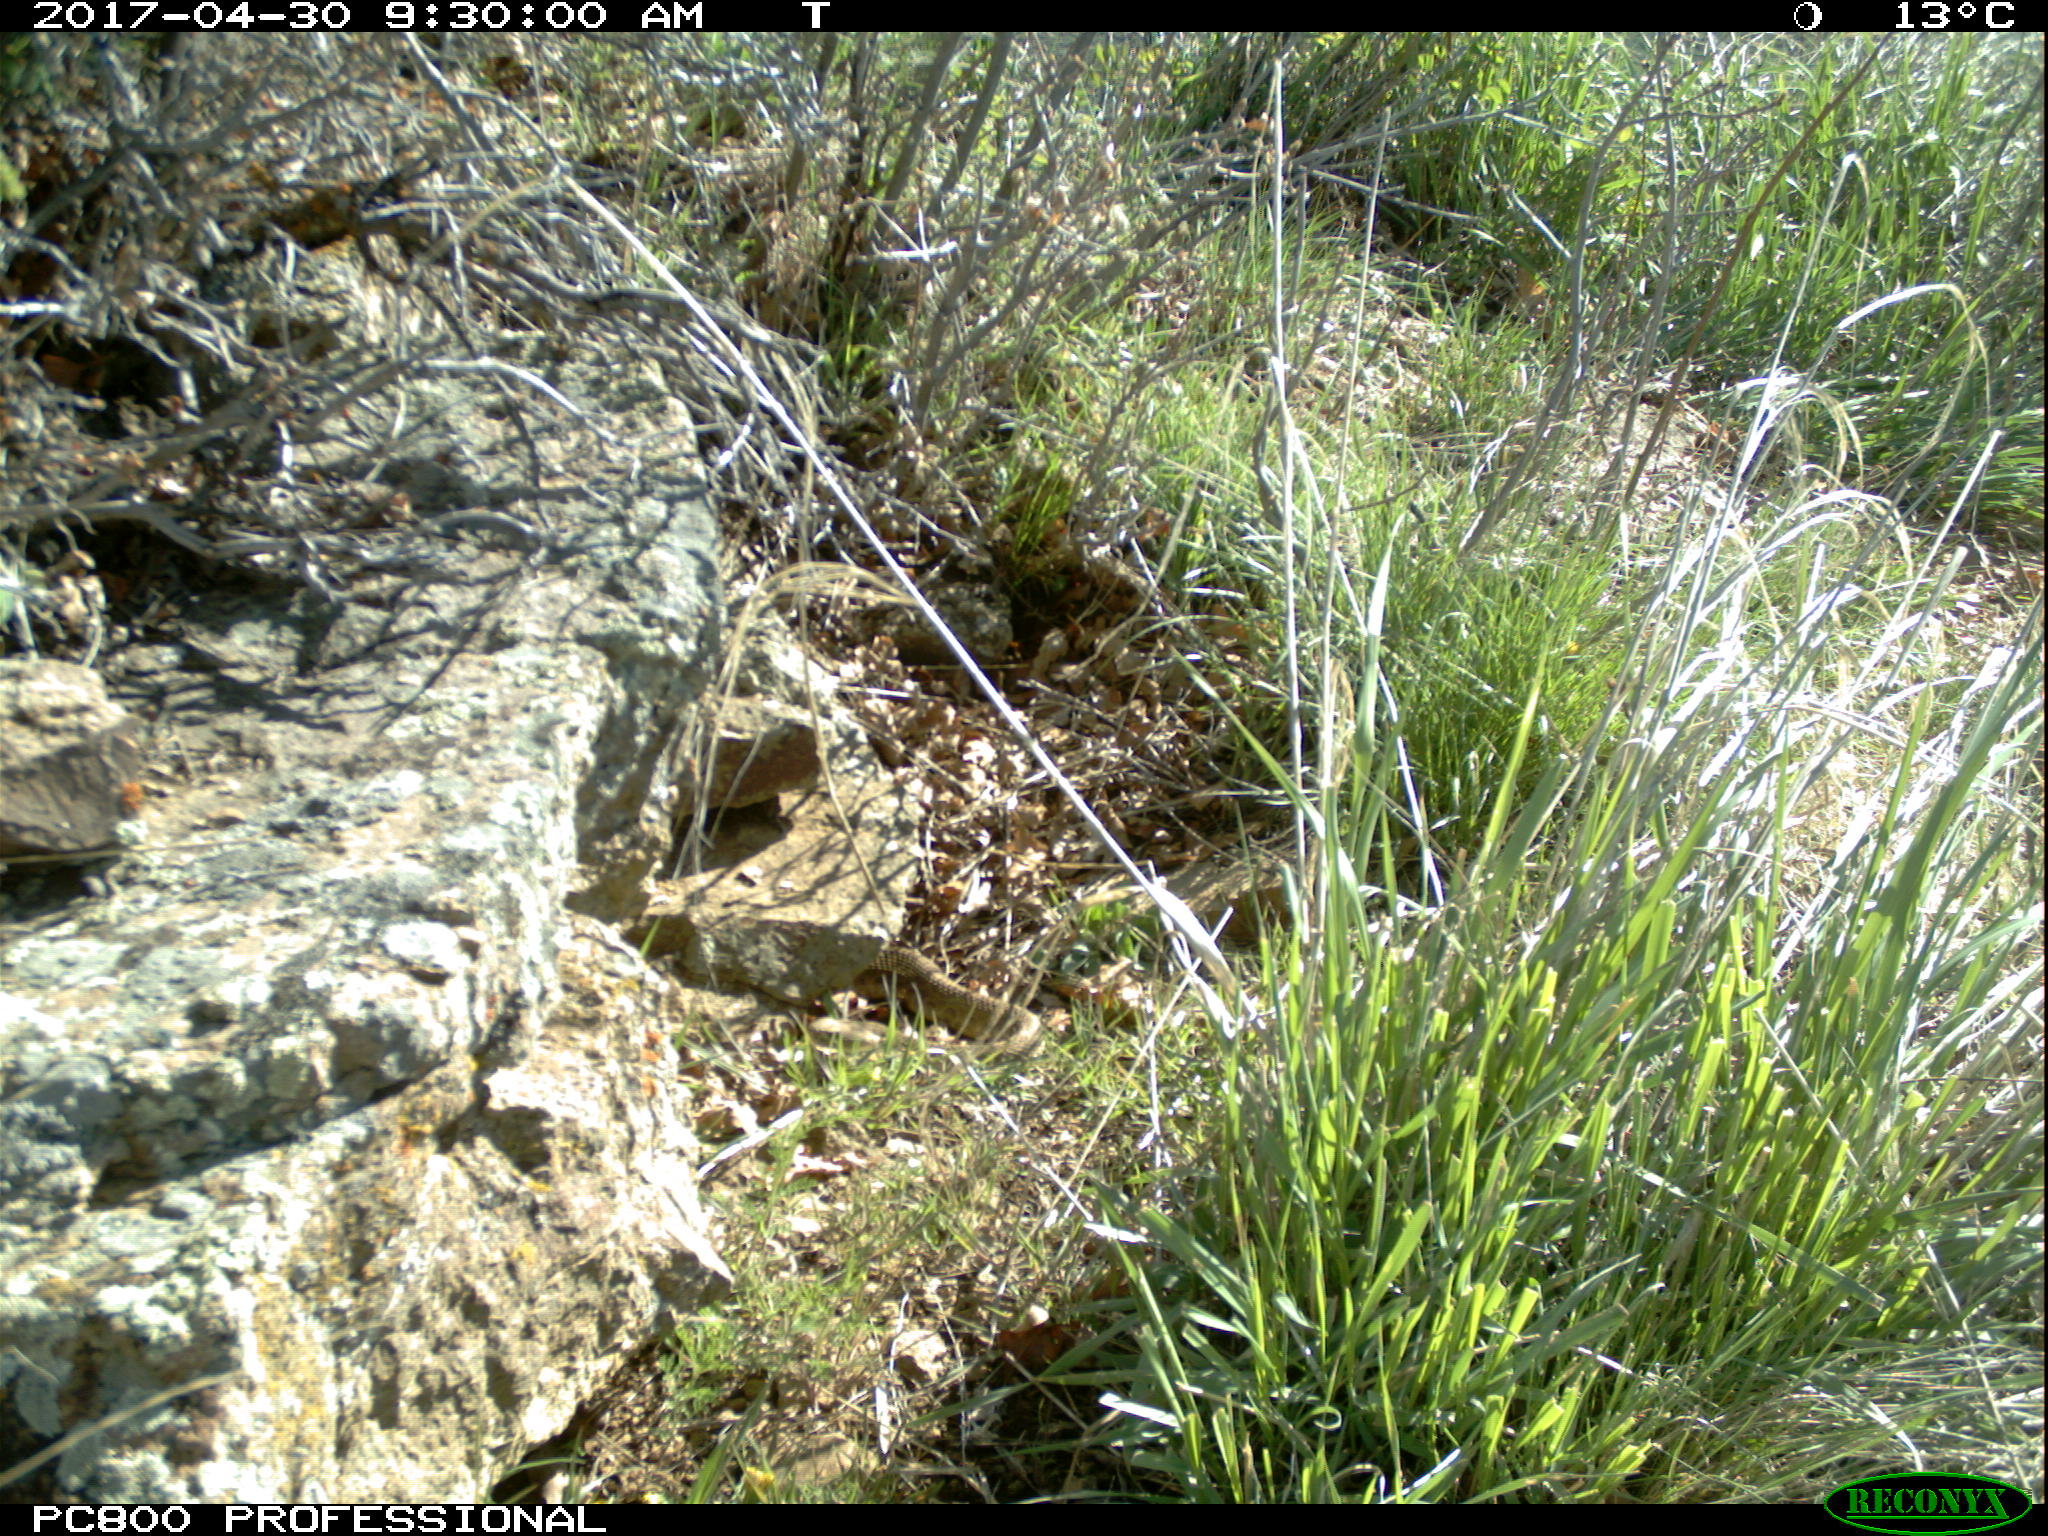snake: (869, 942, 1055, 1062)
